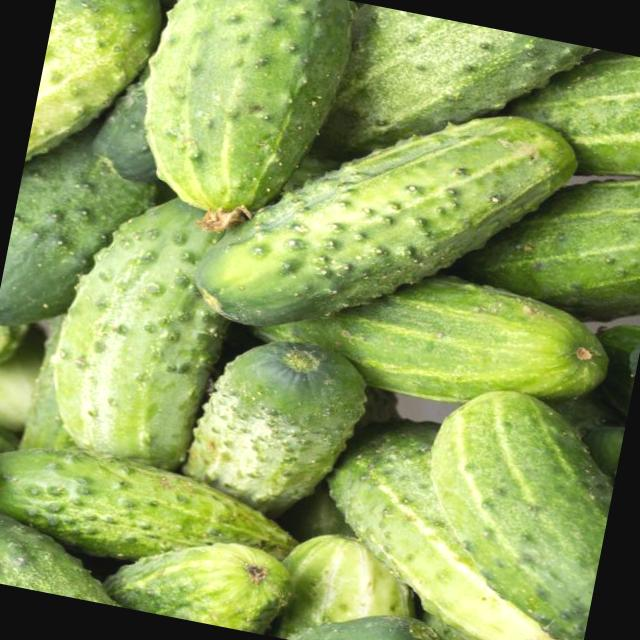Cucumber: (189, 66, 584, 378), (251, 243, 616, 430), (393, 382, 623, 640), (129, 0, 351, 222), (0, 429, 297, 586)
